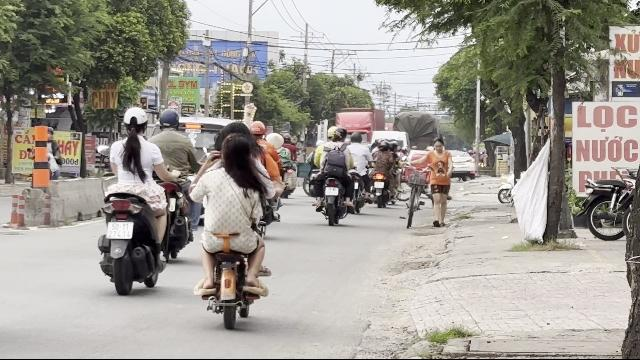helmet: (121, 105, 149, 135), (158, 108, 180, 130), (248, 120, 266, 140)
licenseplate: (107, 221, 133, 238)
motorcyclist: (188, 116, 282, 332), (94, 103, 170, 294)
nohelmet: (220, 136, 256, 176), (218, 120, 252, 144)
